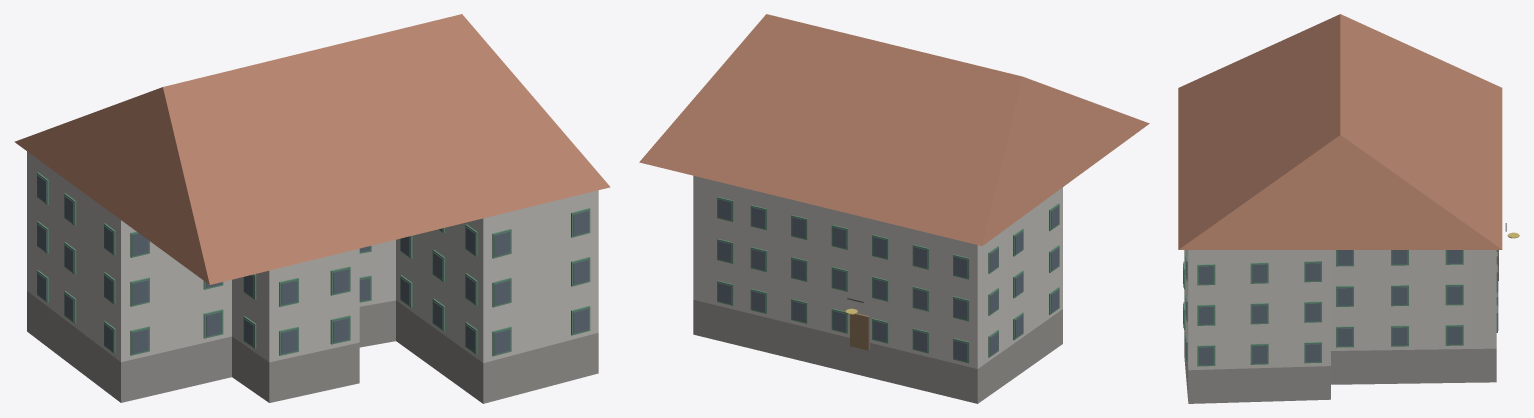
The model's file is landmark-inn-blessings-dorfmitte.glb.
3 renders of one model, left to right at view 1: azimuth 30°, elevation 25°; view 2: azimuth 150°, elevation 25°; view 3: azimuth 270°, elevation 25°, orthographic. The views are drawn at different scales.
Parts seen in each view (by area): view 1: building; view 2: building; view 3: building.
Boxes of the visible parts, bbox=[...] form: building: bbox=[14, 14, 610, 403]; building: bbox=[639, 14, 1149, 403]; building: bbox=[1178, 14, 1519, 403].
Size of the model in its own units: 25.74 by 18.6 by 22.91.
